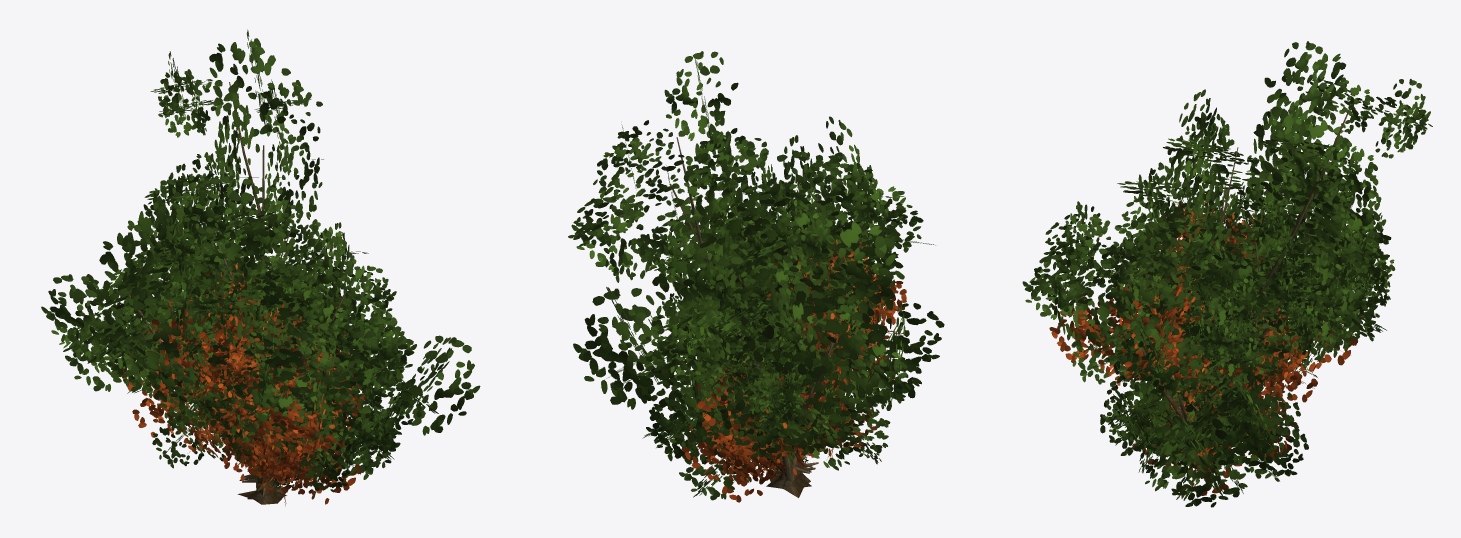
Rendered from tree_pack.glb.
3 views of the same model, side by side, from view 1: azimuth 30°, elevation 25°; view 2: azimuth 150°, elevation 25°; view 3: azimuth 270°, elevation 25° (orthographic). The views are drawn at different scales.
Parts seen in each view (by area): view 1: tree_prairie_ancient_01, tree_prairie_old_02, tree_autumn_old_01, tree_prairie_old_01, tree_autumn_mature_02; view 2: tree_prairie_ancient_01, tree_prairie_old_02, tree_prairie_old_01, tree_autumn_old_01; view 3: tree_prairie_ancient_01, tree_prairie_old_02, tree_autumn_old_01, tree_prairie_old_01, tree_prairie_mature_03, tree_prairie_mature_02.
Part boxes in pixels (x1=…): tree_prairie_ancient_01: x1=41, y1=29, x2=480, y2=501; tree_prairie_old_02: x1=65, y1=186, x2=401, y2=499; tree_autumn_old_01: x1=121, y1=264, x2=367, y2=506; tree_prairie_old_01: x1=111, y1=262, x2=382, y2=478; tree_autumn_mature_02: x1=171, y1=311, x2=318, y2=485; tree_prairie_ancient_01: x1=568, y1=51, x2=944, y2=488; tree_prairie_old_02: x1=634, y1=205, x2=891, y2=500; tree_prairie_old_01: x1=651, y1=241, x2=876, y2=482; tree_autumn_old_01: x1=681, y1=234, x2=906, y2=502; tree_prairie_ancient_01: x1=1022, y1=41, x2=1432, y2=495; tree_prairie_old_02: x1=1089, y1=182, x2=1390, y2=507; tree_autumn_old_01: x1=1049, y1=201, x2=1362, y2=497; tree_prairie_old_01: x1=1124, y1=213, x2=1395, y2=469; tree_prairie_mature_03: x1=1122, y1=263, x2=1309, y2=456; tree_prairie_mature_02: x1=1158, y1=293, x2=1282, y2=442.
Size of the model in its own units: 21.14 by 23.39 by 19.43.
Materials: 4 (4 with a texture image).
